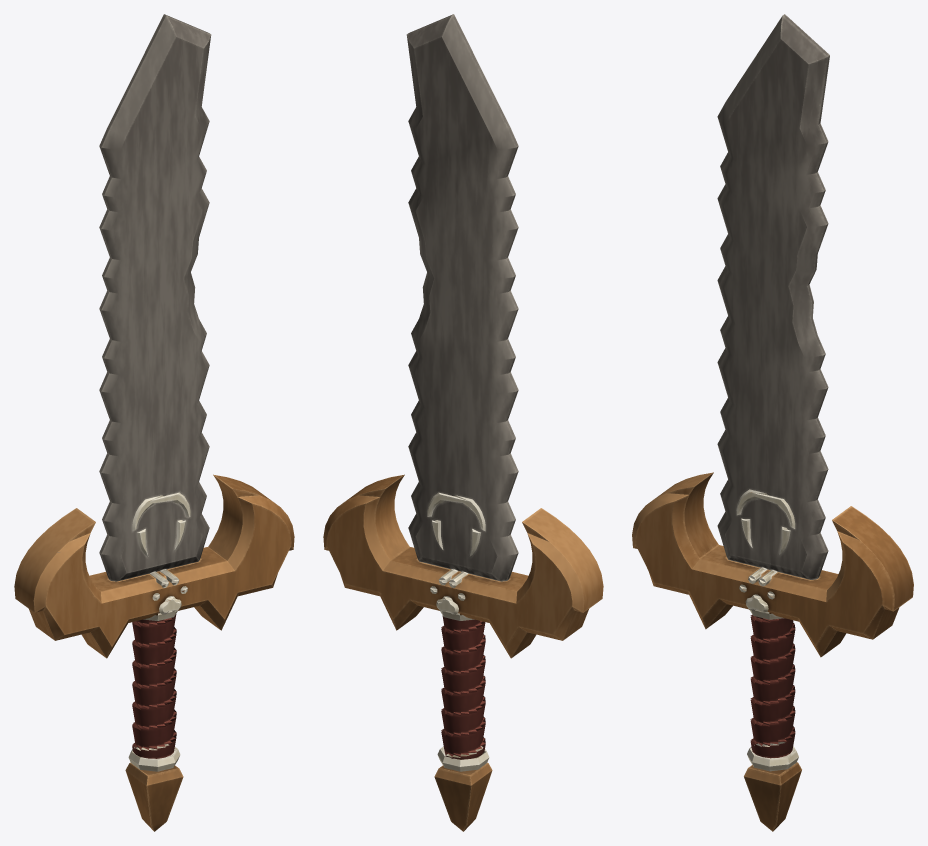
The model's file is Scentseeker.fbx.
3 renders of one model, left to right at view 1: azimuth 30°, elevation 25°; view 2: azimuth 150°, elevation 25°; view 3: azimuth 330°, elevation 25°, orthographic.
Visible parts, largest first — view 1: Scentseeker_Body; view 2: Scentseeker_Body; view 3: Scentseeker_Body.
Part boxes in pixels (x1=…): Scentseeker_Body: x1=14, y1=14, x2=294, y2=831; Scentseeker_Body: x1=323, y1=14, x2=603, y2=831; Scentseeker_Body: x1=632, y1=14, x2=913, y2=831.
Bounding box in the file's own units: 1.4 × 4.18 × 0.32.
